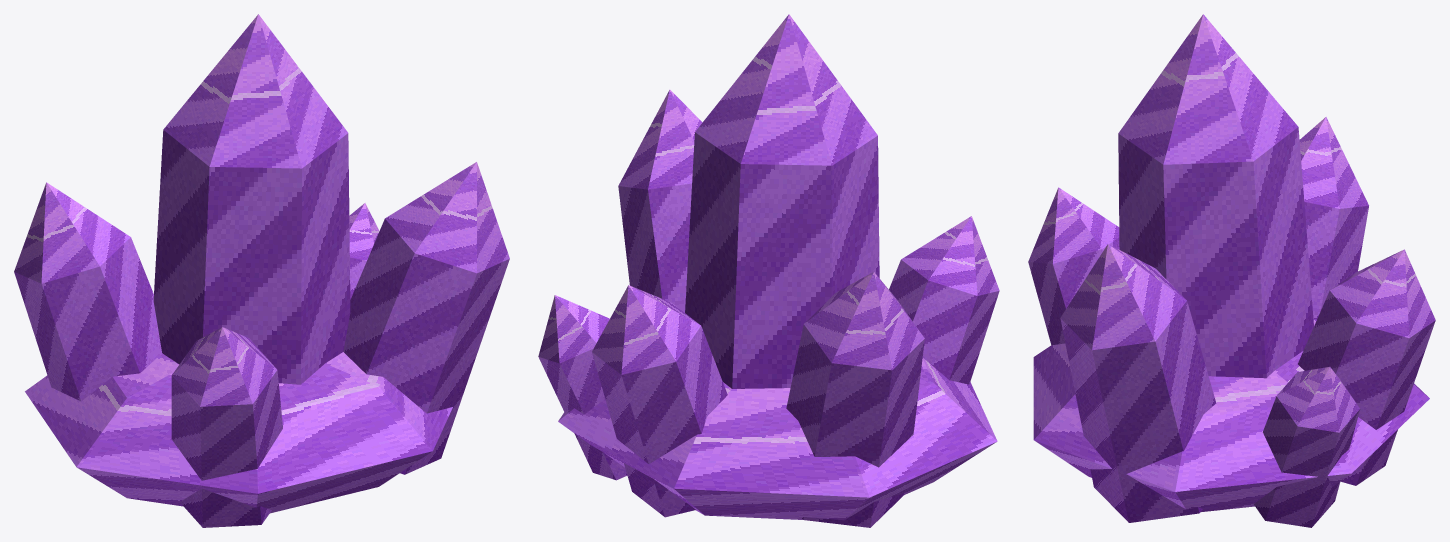
Rendered from geodo.glb.
The picture shows the model from 3 angles, left to right: view 1: azimuth 30°, elevation 25°; view 2: azimuth 150°, elevation 25°; view 3: azimuth 270°, elevation 25°; orthographic projection. The views are drawn at different scales.
Parts seen in each view (by area): view 1: geodo; view 2: geodo; view 3: geodo.
Boxes of the visible parts, box(x1,y1,x2,y2) form: geodo: box(14, 14, 509, 527); geodo: box(538, 14, 999, 527); geodo: box(1028, 14, 1435, 527).
Bounding box in the file's own units: 1.11 × 1.26 × 1.02.
Materials: 1 (1 with a texture image).
